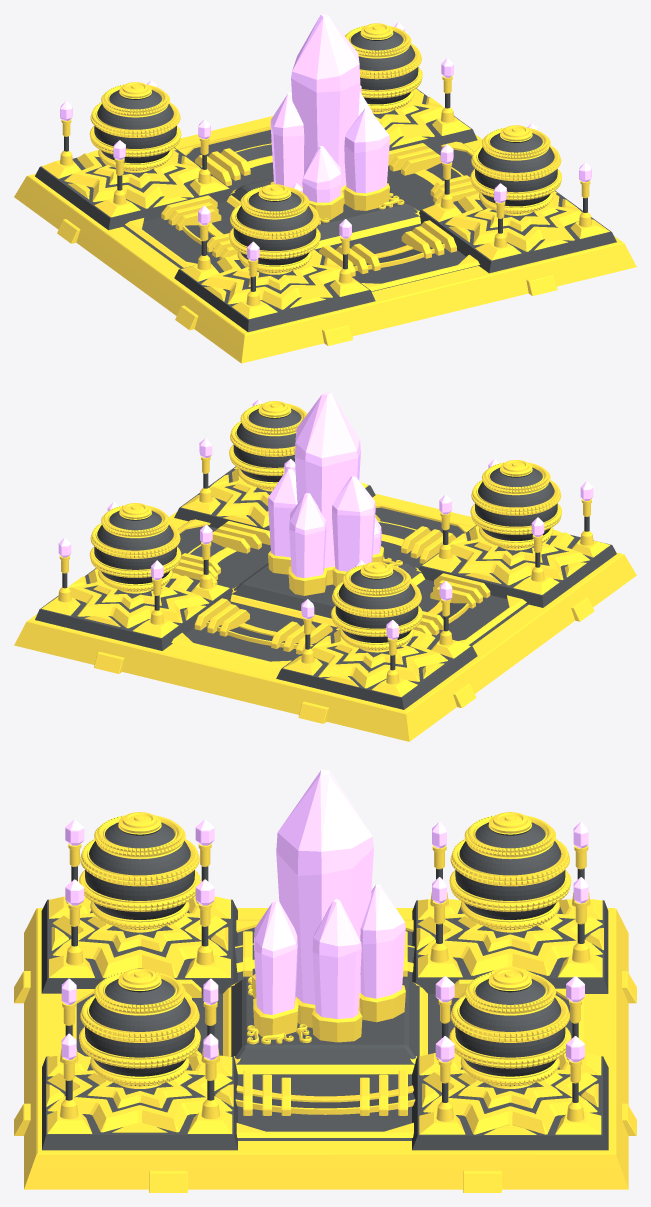
Rendered from religious_courtyard_prayer_large.fbx.
3 renders of one model, top to bottom at view 1: azimuth 30°, elevation 25°; view 2: azimuth 150°, elevation 25°; view 3: azimuth 270°, elevation 25°, orthographic. The views are drawn at different scales.
Parts seen in each view (by area): view 1: base (×2), pSphere76 (×4), crystals, star_top4 (×4), divider, floor_pattern (×4), poles (×3), corner_star_top2 (×4), corner1, corner6, corner8, gems (×3) (+7 smaller); view 2: base (×2), pSphere76 (×4), crystals, star_top4 (×4), divider, floor_pattern (×4), poles (×3), corner8, corner7, corner_star_top2 (×3), corner1, gems (×3) (+7 smaller); view 3: base (×2), pSphere76 (×4), crystals, star_top4 (×4), floor_pattern (×4), poles (×4), corner_star_top2 (×4), gems (×4), corner7, corner6, crystal_base, divider (+7 smaller).
Part boxes in pixels (x1,y1,x2,y2): base (×2): (14, 116, 636, 363); pSphere76 (×4): (89, 23, 561, 274); crystals: (270, 14, 389, 202); star_top4 (×4): (64, 90, 581, 309); divider: (161, 141, 479, 276); floor_pattern (×4): (42, 89, 609, 319); poles (×3): (60, 119, 591, 305); corner_star_top2 (×4): (93, 104, 558, 290); corner1: (174, 249, 375, 332); corner6: (419, 191, 616, 273); corner8: (35, 147, 232, 230); gems (×3): (60, 80, 591, 261); base (×2): (14, 493, 636, 741); pSphere76 (×4): (89, 401, 561, 652); crystals: (268, 392, 381, 578); star_top4 (×4): (69, 468, 589, 688); divider: (172, 514, 490, 654); floor_pattern (×4): (41, 467, 609, 696); poles (×3): (58, 499, 593, 684); corner8: (276, 627, 477, 709); corner7: (35, 568, 232, 650); corner_star_top2 (×3): (93, 537, 558, 668); corner1: (418, 525, 616, 607); gems (×3): (58, 458, 593, 639); base (×2): (24, 908, 628, 1189); pSphere76 (×4): (79, 812, 571, 1088); crystals: (254, 770, 405, 1018); star_top4 (×4): (47, 913, 602, 1134); floor_pattern (×4): (46, 896, 603, 1134); poles (×4): (60, 843, 590, 1121); corner_star_top2 (×4): (87, 916, 562, 1108); gems (×4): (61, 819, 588, 1062); corner7: (412, 1056, 608, 1150); corner6: (42, 1056, 237, 1150); crystal_base: (251, 974, 405, 1042); divider: (176, 931, 473, 1115).
Bounding box in the file's own units: 42 × 21.51 × 42.05.
